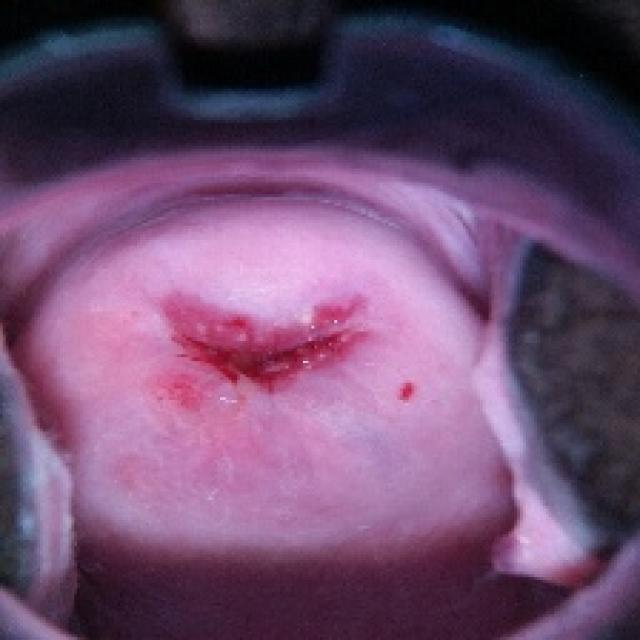type-2: (0, 154, 589, 640)
